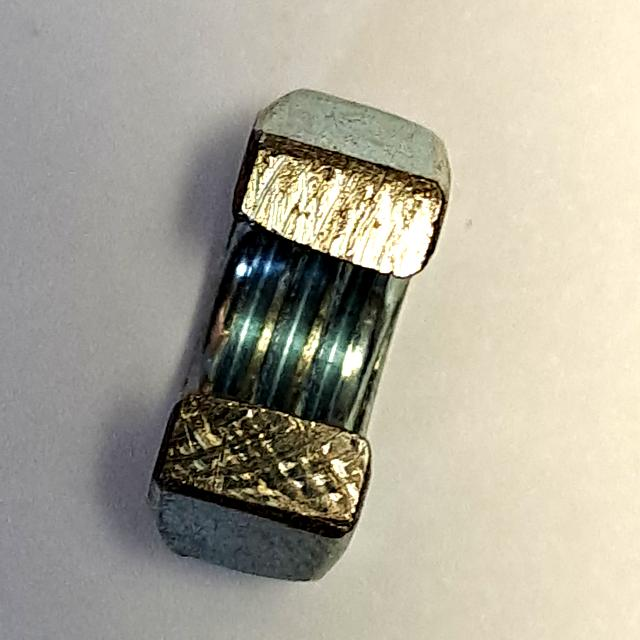Side-Fracture: (132, 72, 465, 595)
